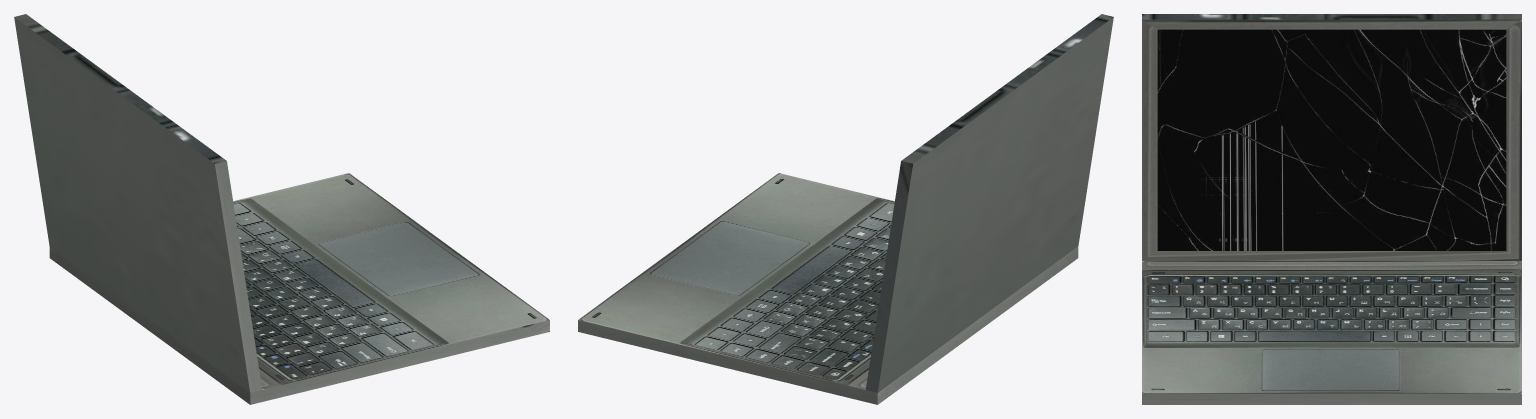
File: notebook.fbx
3 views of the same model, side by side, from view 1: azimuth 30°, elevation 25°; view 2: azimuth 150°, elevation 25°; view 3: azimuth 270°, elevation 25° (orthographic). The views are drawn at different scales.
Parts seen in each view (by area): view 1: Cube; view 2: Cube; view 3: Cube.
Boxes of the visible parts, <box> form: Cube: <box>14,14,549,404</box>; Cube: <box>578,14,1113,404</box>; Cube: <box>1142,14,1521,404</box>.
Bounding box in the file's own units: 198 × 141 × 205.
